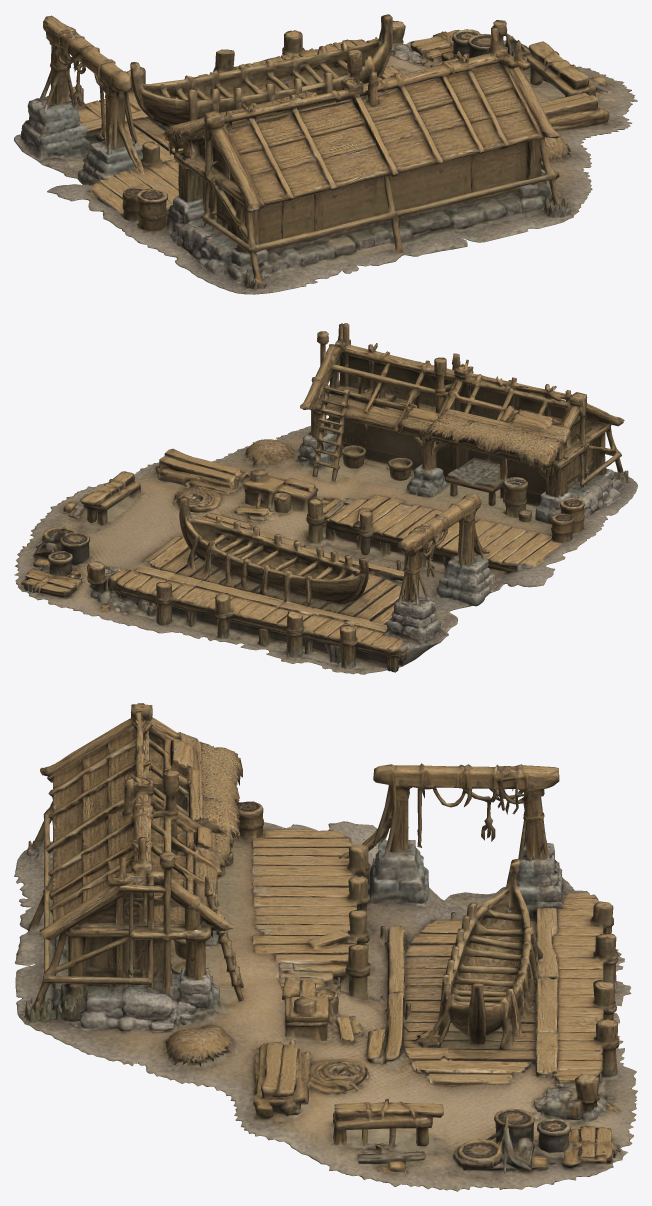
File: tripo_convert_52abd9f0-657d-4e1e-a202-484cc5944de0.fbx
The picture shows the model from 3 angles, top to bottom: view 1: azimuth 30°, elevation 25°; view 2: azimuth 150°, elevation 25°; view 3: azimuth 270°, elevation 25°; orthographic projection. The views are drawn at different scales.
Visible parts, largest first — view 1: tripo_node_52abd9f0; view 2: tripo_node_52abd9f0; view 3: tripo_node_52abd9f0.
Boxes of the visible parts, left/top/right/bottom form: tripo_node_52abd9f0: left=14, top=14, right=637, bottom=294; tripo_node_52abd9f0: left=14, top=323, right=637, bottom=674; tripo_node_52abd9f0: left=14, top=703, right=637, bottom=1191.
Size of the model in its own units: 0.9795 by 0.3383 by 0.8175.
1 material, 1 textured.
